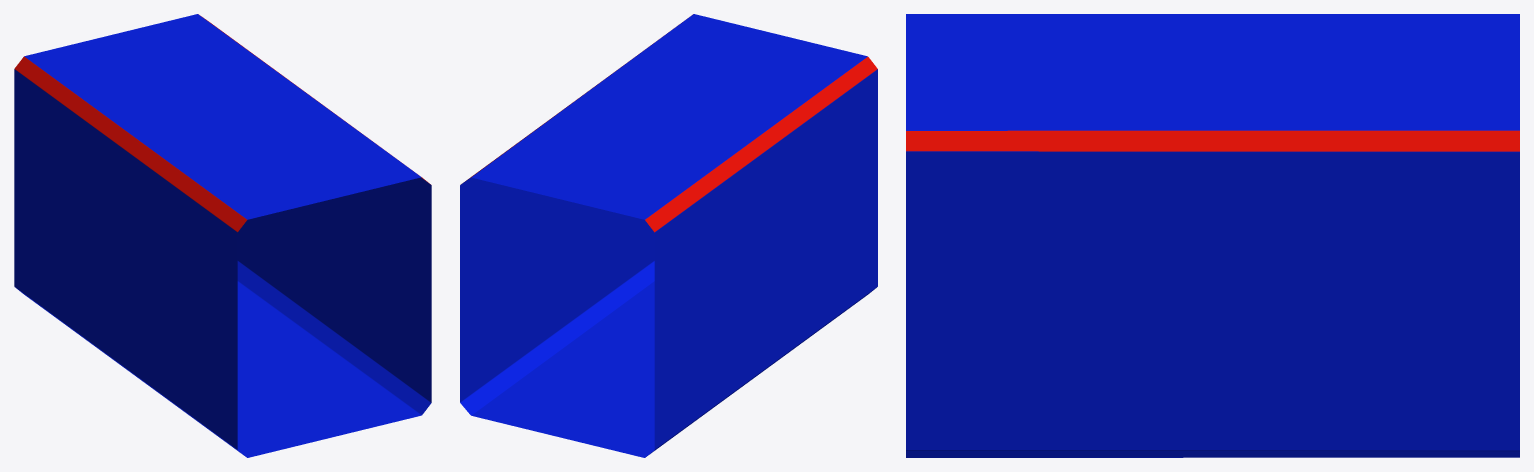
Rendered from ShortTunnel.fbx.
3 views of the same model, side by side, from view 1: azimuth 30°, elevation 25°; view 2: azimuth 150°, elevation 25°; view 3: azimuth 270°, elevation 25° (orthographic). The views are drawn at different scales.
Visible parts, largest first — view 1: TunnelShort; view 2: TunnelShort; view 3: TunnelShort.
Boxes of the visible parts, <box> form: TunnelShort: <box>14,14,431,457</box>; TunnelShort: <box>460,14,877,457</box>; TunnelShort: <box>906,14,1519,457</box>.
Bounding box in the file's own units: 201 × 235 × 400.
